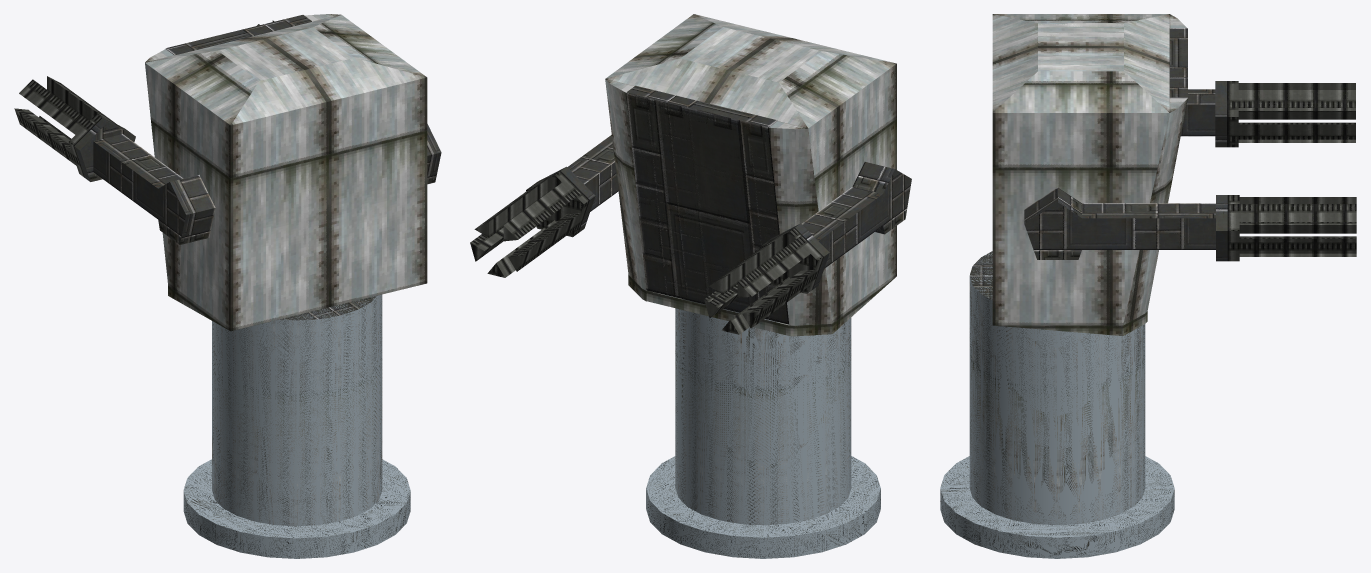
The model's file is Boss.fbx.
3 views of the same model, side by side, from view 1: azimuth 30°, elevation 25°; view 2: azimuth 150°, elevation 25°; view 3: azimuth 270°, elevation 25° (orthographic). The views are drawn at different scales.
Parts seen in each view (by area): view 1: Body1, Model, Arm2, Canon2, Shield1, Arm1; view 2: Model, Body1, Shield1, Canon1, Canon2, Arm2, Arm1; view 3: Body1, Model, Arm1, Canon1, Canon2, Arm2, Shield1.
Part boxes in pixels (left/top/right/bottom): Body1: left=145, top=14, right=427, bottom=331; Model: left=183, top=294, right=410, bottom=558; Arm2: left=74, top=118, right=215, bottom=244; Canon2: left=14, top=76, right=128, bottom=177; Shield1: left=165, top=15, right=311, bottom=55; Arm1: left=427, top=124, right=441, bottom=184; Model: left=646, top=299, right=880, bottom=558; Body1: left=605, top=14, right=896, bottom=336; Shield1: left=626, top=85, right=789, bottom=324; Canon1: left=470, top=171, right=589, bottom=277; Canon2: left=704, top=228, right=823, bottom=334; Arm2: left=766, top=162, right=911, bottom=289; Arm1: left=532, top=135, right=618, bottom=232; Body1: left=992, top=14, right=1187, bottom=335; Model: left=940, top=251, right=1174, bottom=558; Arm1: left=1024, top=187, right=1227, bottom=261; Canon1: left=1227, top=195, right=1356, bottom=261; Canon2: left=1227, top=81, right=1355, bottom=147; Arm2: left=1181, top=81, right=1226, bottom=147; Shield1: left=1169, top=28, right=1187, bottom=98.
Bounding box in the file's own units: 2.87 × 4.35 × 3.55.
